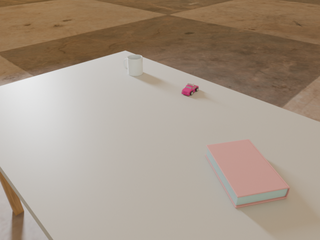book: (205, 139, 290, 208)
cup: (124, 55, 143, 76)
toy_car: (182, 83, 199, 95)
